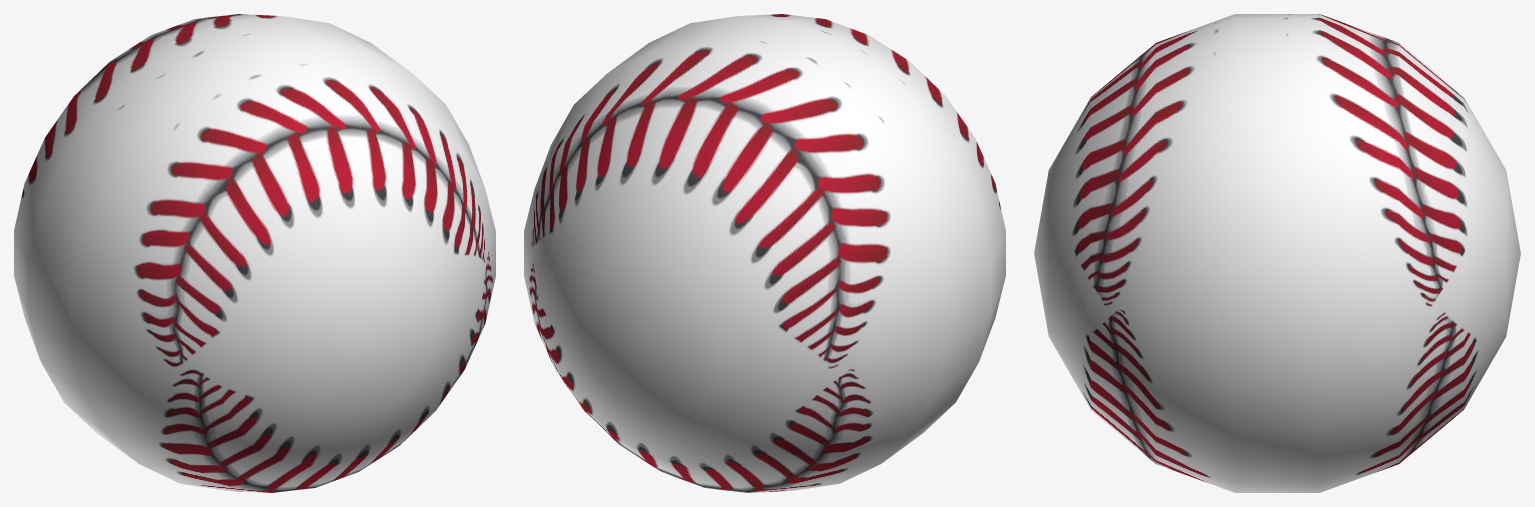
File: ball.fbx
3 views of the same model, side by side, from view 1: azimuth 30°, elevation 25°; view 2: azimuth 150°, elevation 25°; view 3: azimuth 270°, elevation 25° (orthographic).
Visible parts, largest first — view 1: ball; view 2: ball; view 3: ball.
Part boxes in pixels (x1,y1,x2,y2): ball: (14, 14, 495, 492); ball: (524, 14, 1005, 492); ball: (1034, 14, 1520, 492).
Size of the model in its own units: 0.4737 by 0.4771 by 0.4845.
